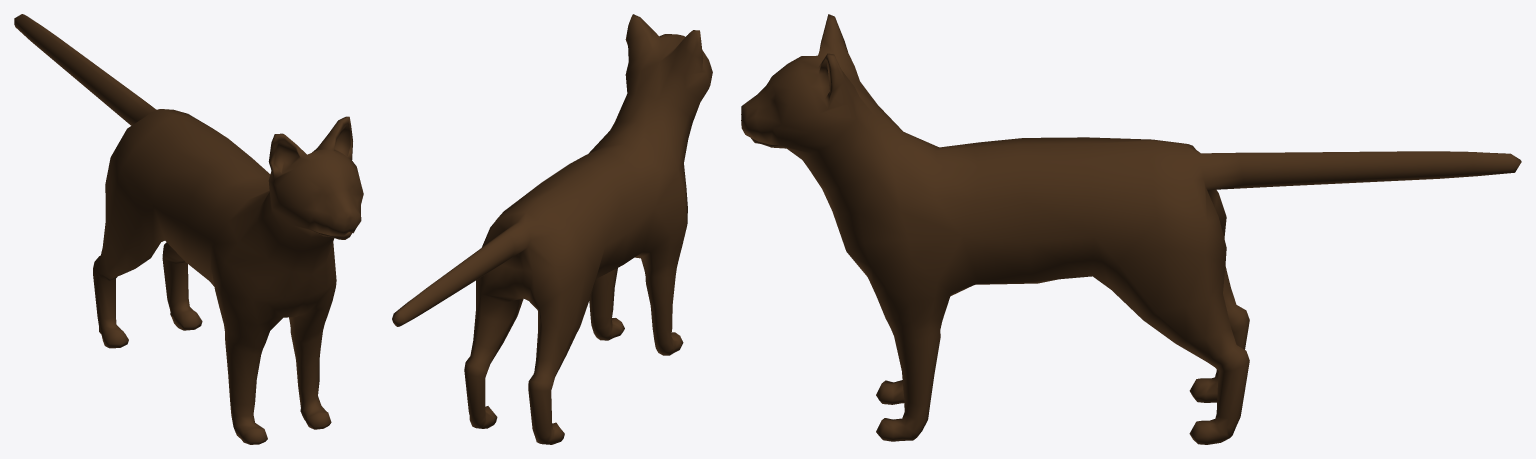
File: cat.obj
3 views of the same model, side by side, from view 1: azimuth 30°, elevation 25°; view 2: azimuth 150°, elevation 25°; view 3: azimuth 270°, elevation 25° (orthographic). The views are drawn at different scales.
Visible parts, largest first — view 1: cat; view 2: cat; view 3: cat.
Part boxes in pixels (x1,y1,x2,y2): cat: [14, 14, 363, 444]; cat: [392, 14, 712, 444]; cat: [741, 14, 1521, 444].
Bounding box in the file's own units: 0.1606 × 0.4449 × 0.8207.
1 material, 1 textured.
